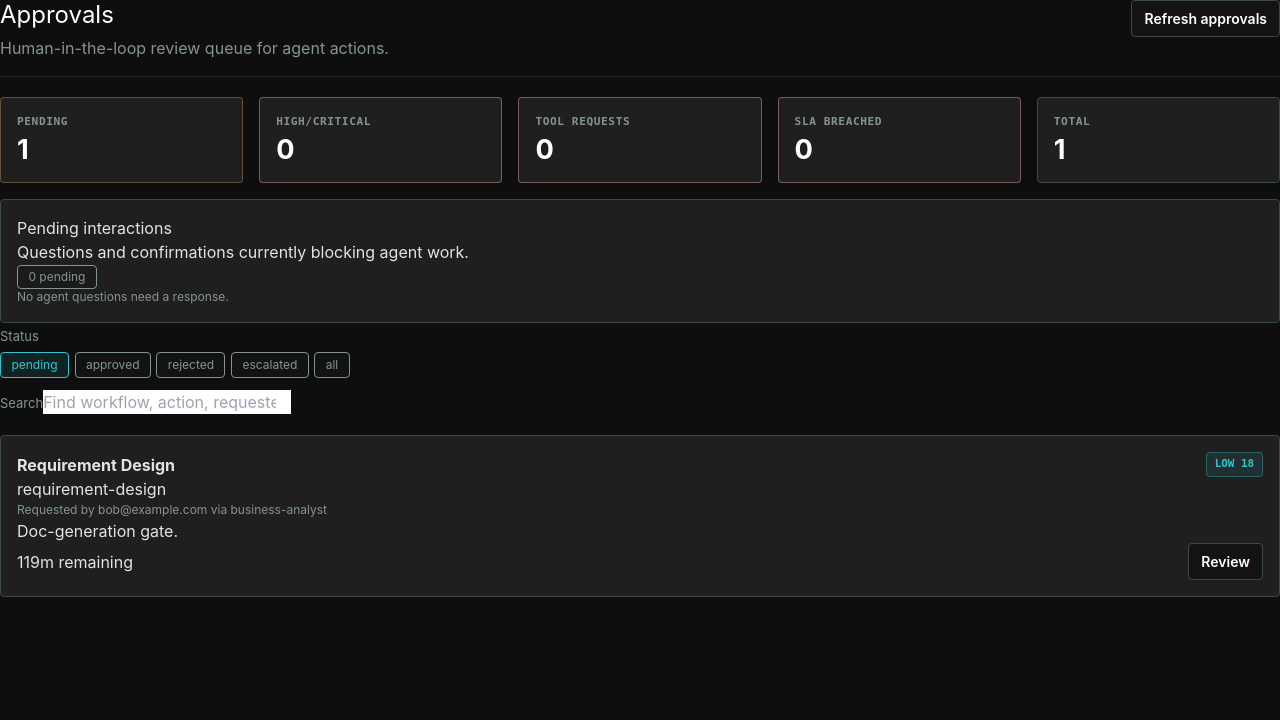
Test: ApprovalsDashboard integration › renders the generated artifact as markdown when an approval references one
This screenshot has width=1280, height=720.
Check: the heading "Approvals" is shown, box [0,0,114,29]
Click the button "Review".
click(1226, 562)  # box [1188,543,1263,580]
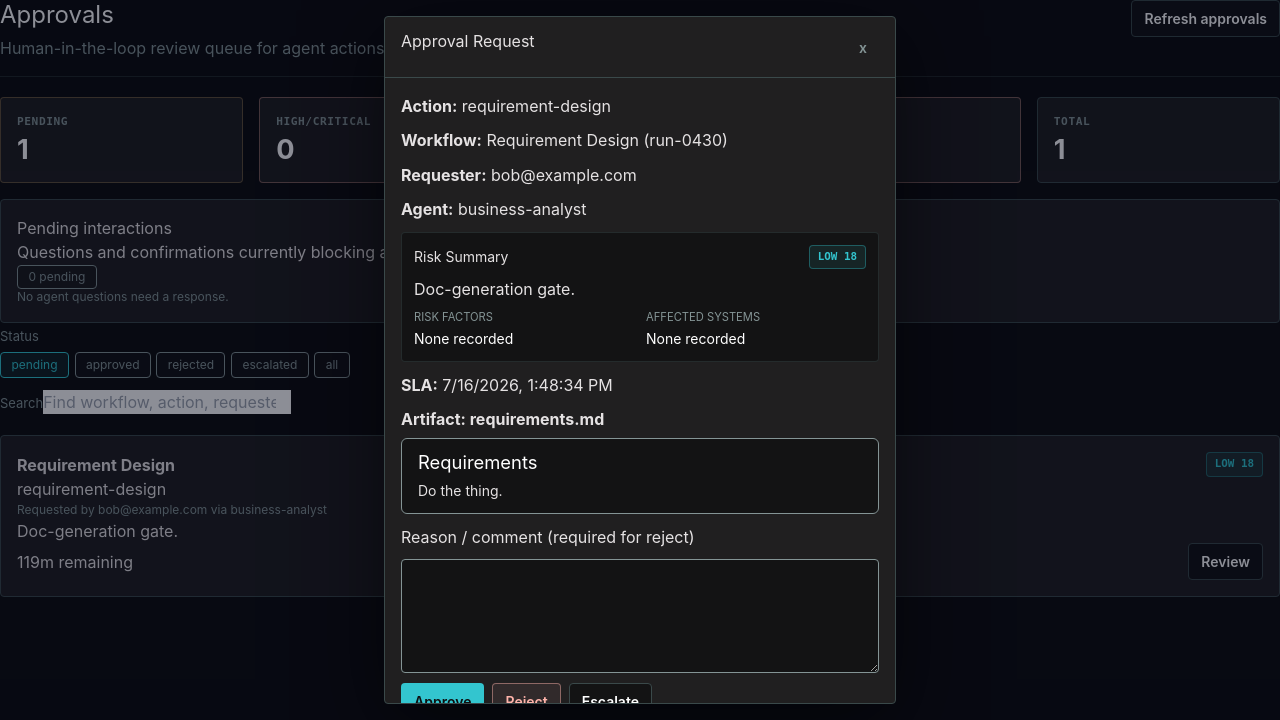
Check: the text "Artifact: requirements.md" is shown, box [401,409,604,429]
Check: the heading "Requirements" is shown, box [418,451,538,473]
Check: the text "Do the thing." is shown, box [418,482,502,499]
